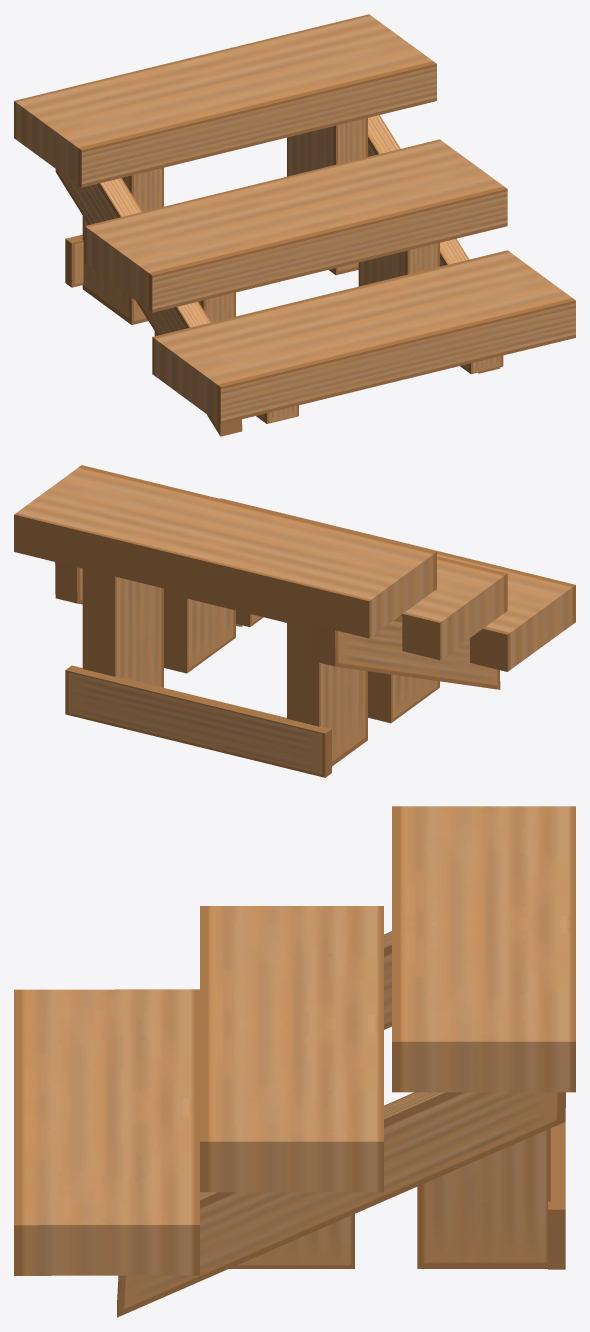
File: PalmWoodStepsHand.fbx
3 renders of one model, top to bottom at view 1: azimuth 30°, elevation 25°; view 2: azimuth 150°, elevation 25°; view 3: azimuth 270°, elevation 25°, orthographic. The views are drawn at different scales.
Parts seen in each view (by area): view 1: AllSideTiles; view 2: AllSideTiles; view 3: AllSideTiles.
Boxes of the visible parts, x1,y1,x2,y2 form: AllSideTiles: (14,14,575,436); AllSideTiles: (14,465,575,777); AllSideTiles: (14,806,575,1317).
Size of the model in its own units: 1 by 0.5957 by 1.01.
